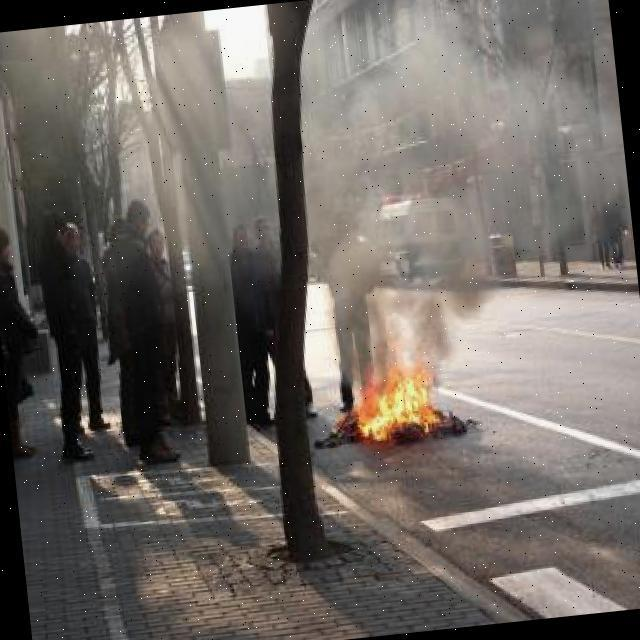Fire: (345, 353, 458, 453)
Smoke: (304, 0, 640, 368)
